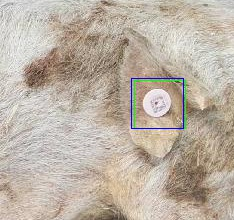text: (134, 80, 185, 128)
